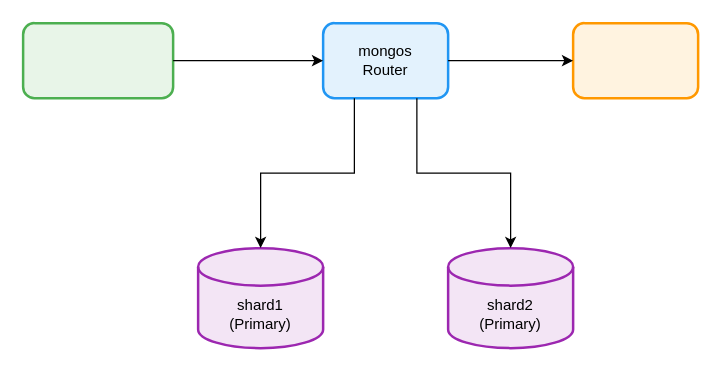
Image size: 720x370. Some labels were removed from this diagram. Each missing label, with the box of its shape:
configSrv: (571, 21, 699, 99)
pymongo-api: (21, 21, 174, 99)
